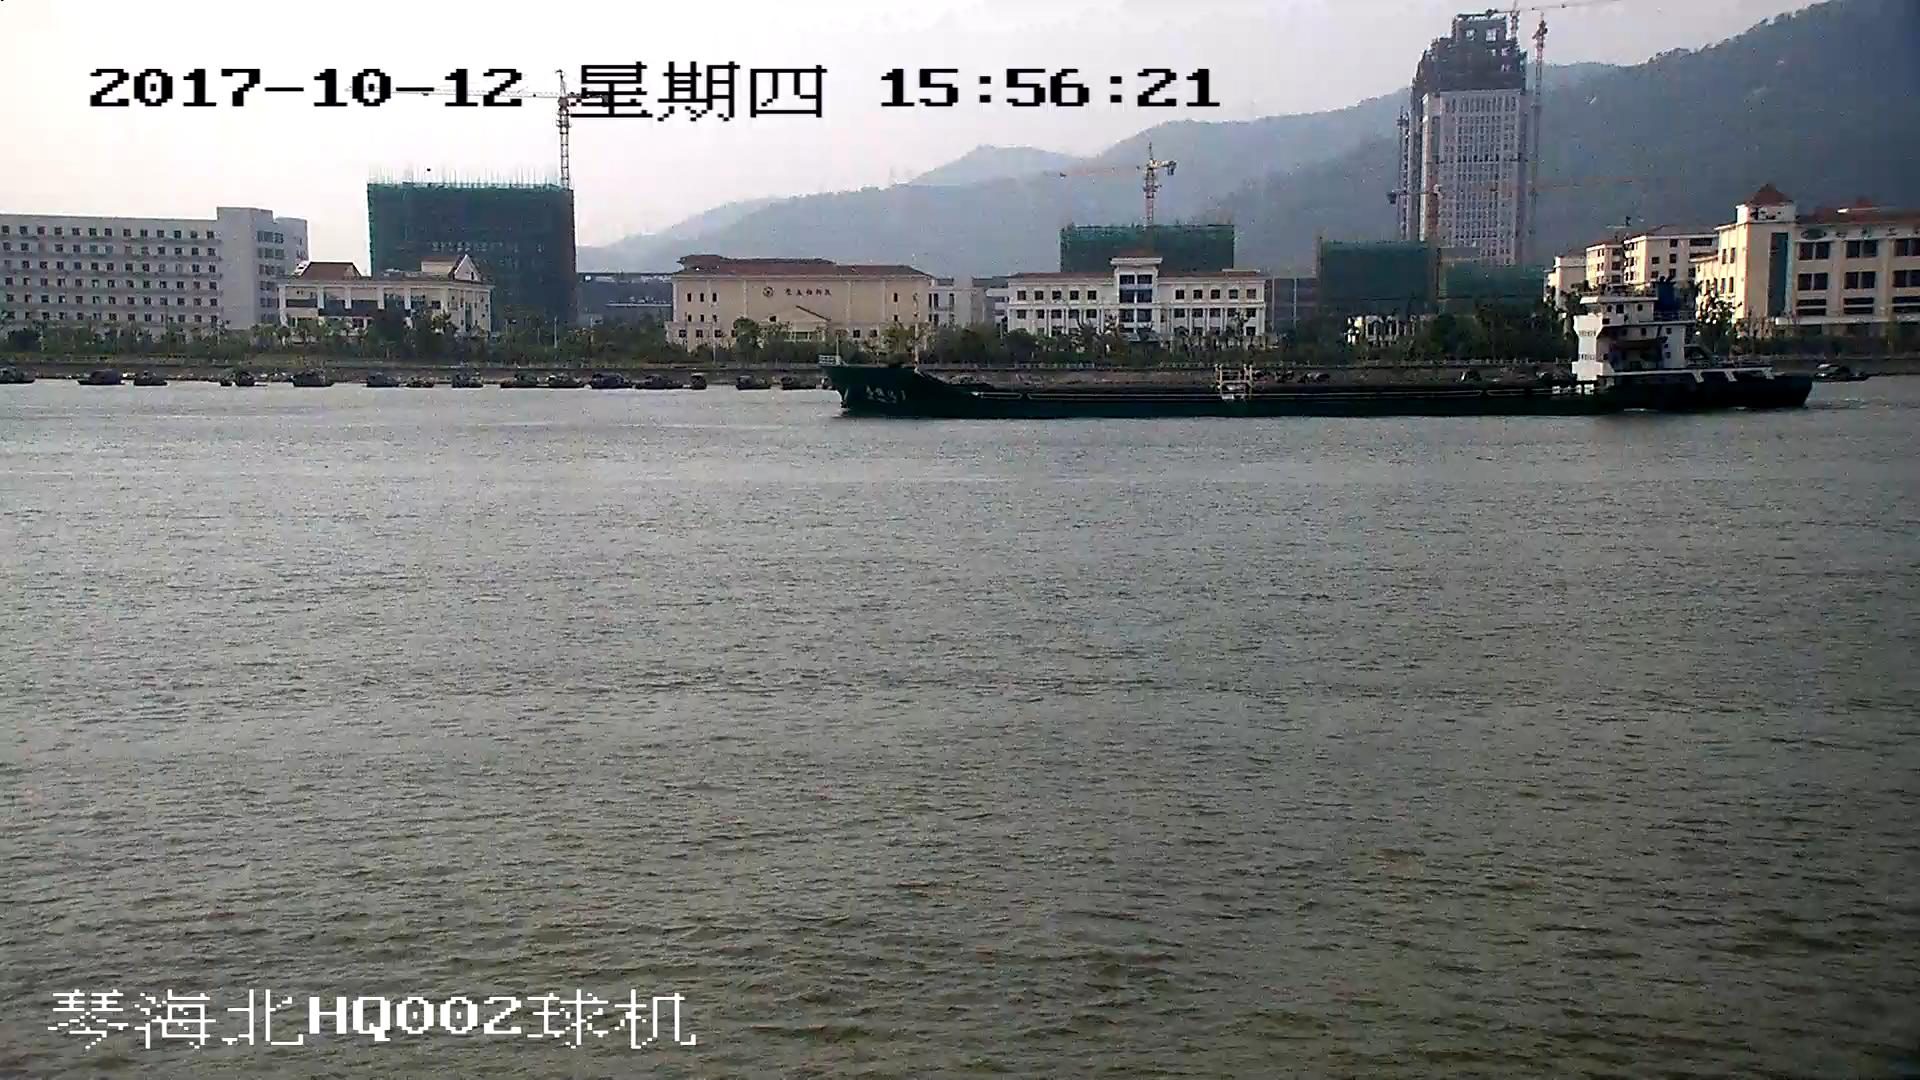general cargo ship: (823, 273, 1811, 418)
